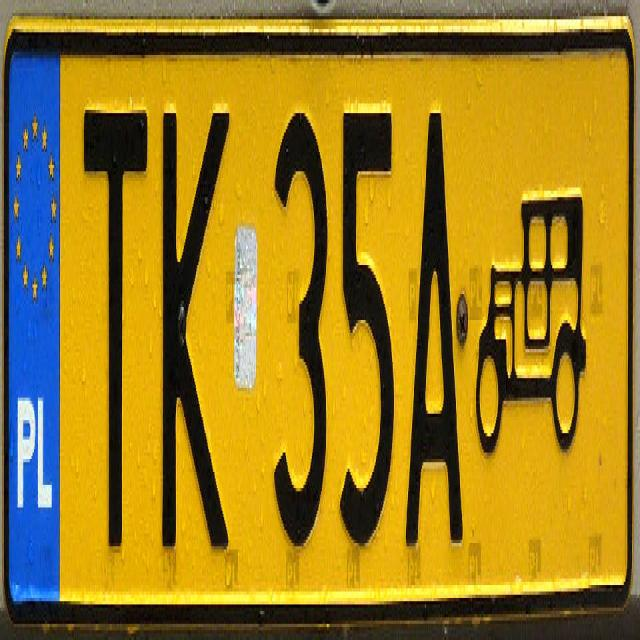pl_license_plate: (6, 32, 628, 585)
